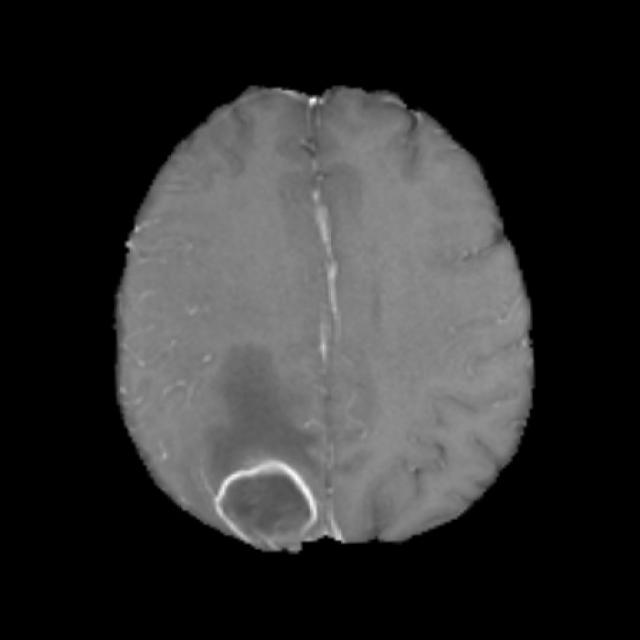positive: (212, 458, 317, 538)
